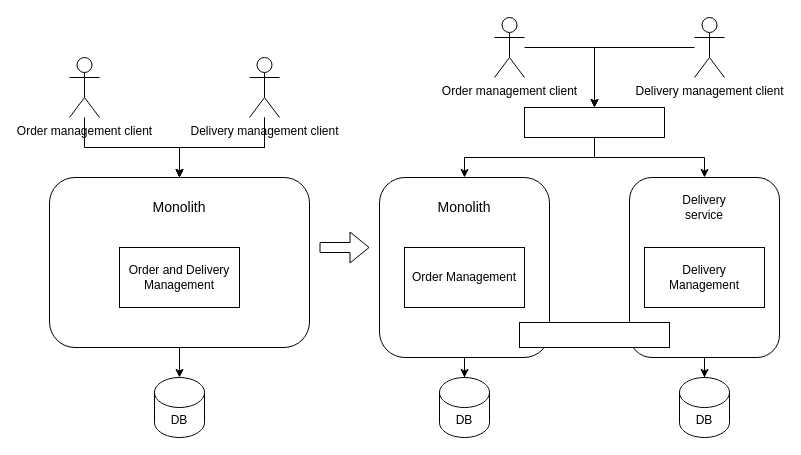
This 801x455 diagram has some shape labels left out. The box of each missing label's shape, as (x1, y1, x2, y2) in pixels:
API Gateway: (524, 106, 664, 138)
Integration: (518, 322, 670, 348)
